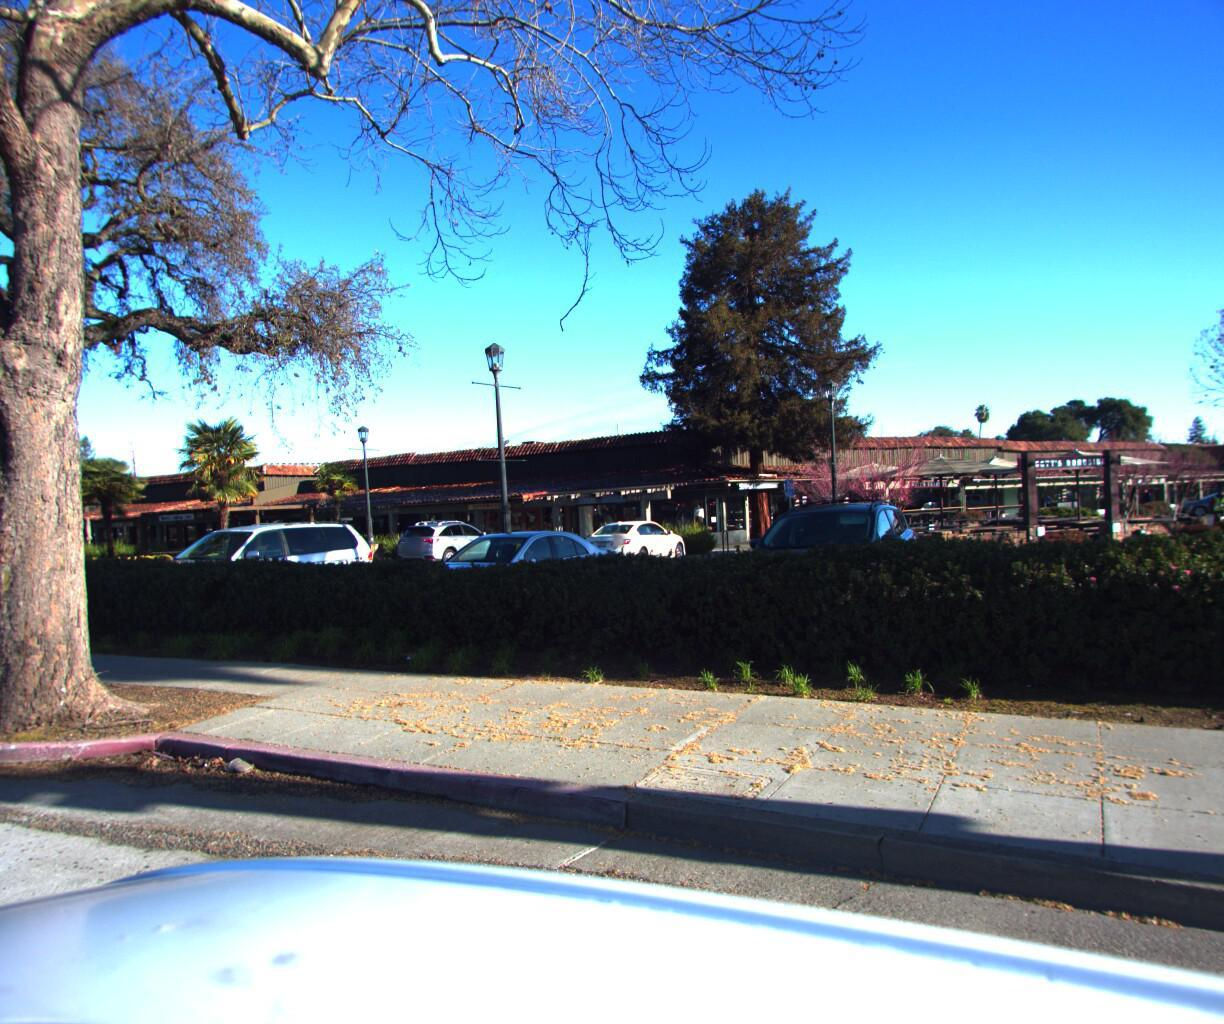car: (700, 484, 936, 658), (383, 517, 636, 650), (127, 510, 383, 623)
